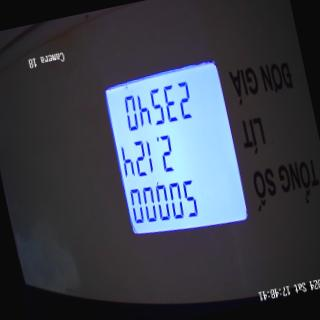screen: (94, 53, 255, 257)
